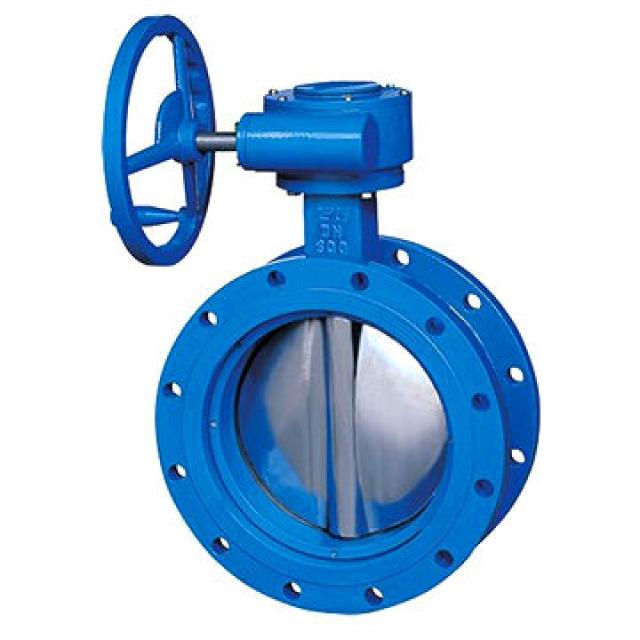Wheel Handle Valve Threaded: (91, 2, 228, 277)
